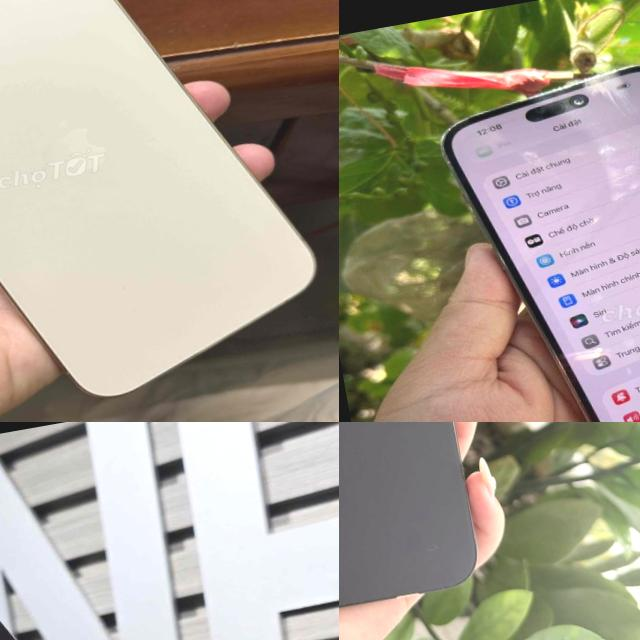gen_12_13: (0, 0, 338, 422)
gen_14: (431, 34, 640, 422), (0, 512, 263, 640)
gen_16: (339, 422, 492, 626)
scratch: (429, 90, 552, 140)
